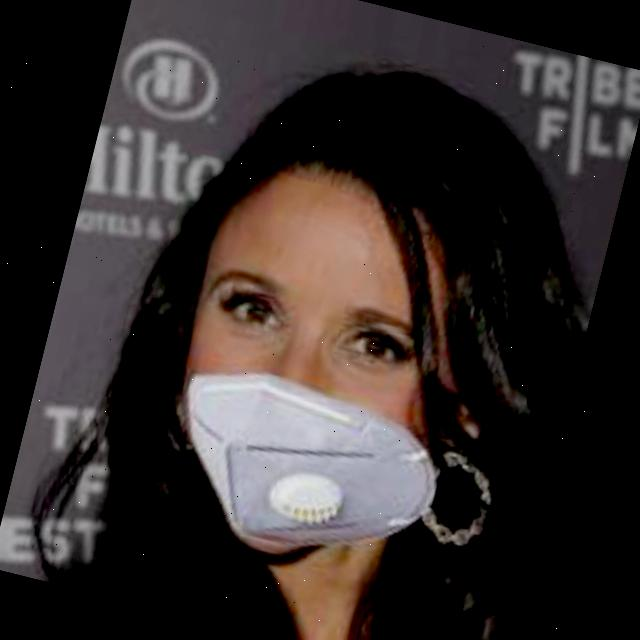suspicion: (113, 45, 584, 638)
